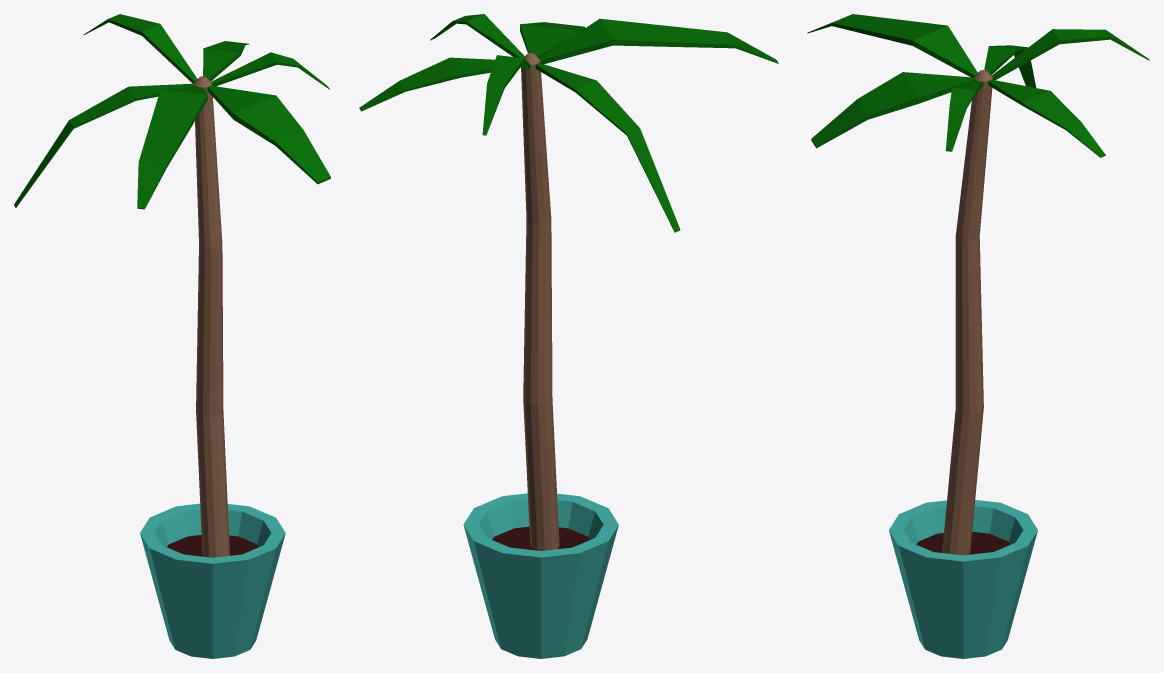
Rendered from plant.fbx.
The picture shows the model from 3 angles, left to right: view 1: azimuth 30°, elevation 25°; view 2: azimuth 150°, elevation 25°; view 3: azimuth 270°, elevation 25°; orthographic projection. The views are drawn at different scales.
Visible parts, largest first — view 1: RED; view 2: RED; view 3: RED.
Boxes of the visible parts, x1=… form: RED: x1=14, y1=14, x2=330, y2=658; RED: x1=359, y1=14, x2=778, y2=658; RED: x1=807, y1=14, x2=1149, y2=658.
Bounding box in the file's own units: 532 × 1084 × 563.
